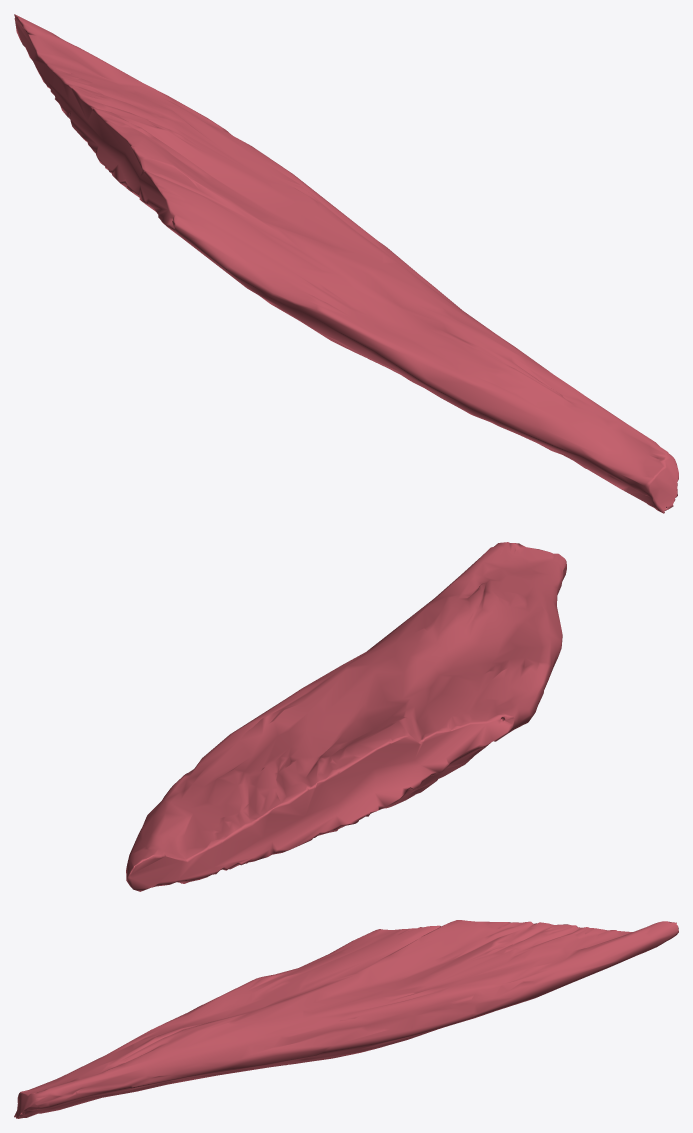
3 renders of one model, top to bottom at view 1: azimuth 30°, elevation 25°; view 2: azimuth 150°, elevation 25°; view 3: azimuth 270°, elevation 25°, orthographic. The views are drawn at different scales.
Parts seen in each view (by area): view 1: 右侧长收肌; view 2: 右侧长收肌; view 3: 右侧长收肌.
Part boxes in pixels (x1,y1,x2,y2): 右侧长收肌: (14, 14, 678, 513); 右侧长收肌: (126, 542, 566, 891); 右侧长收肌: (14, 920, 678, 1118).
Bounding box in the file's own units: 0.1224 × 0.0881 × 0.3902.
